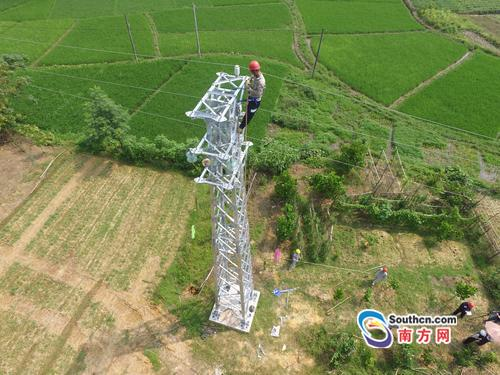gloves: (255, 99, 261, 107)
hard-hat: (248, 60, 260, 71)
person: (237, 59, 266, 132)
ppe-suit: (237, 60, 267, 132), (238, 73, 266, 130)
